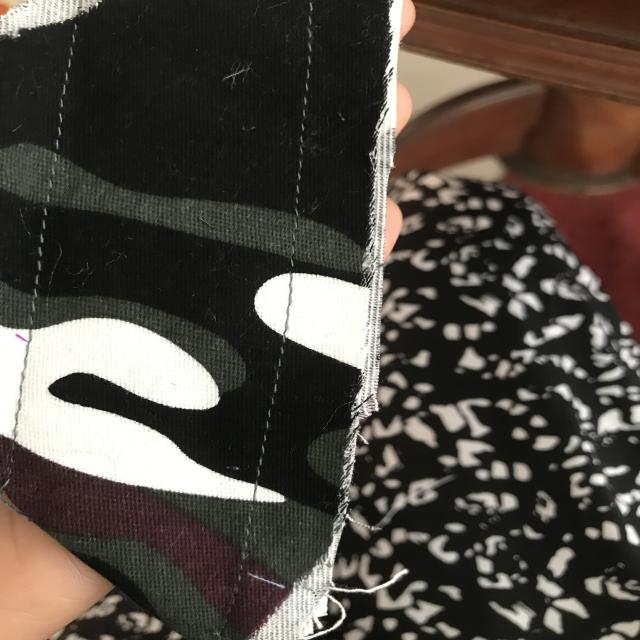good: (54, 42, 94, 118)
